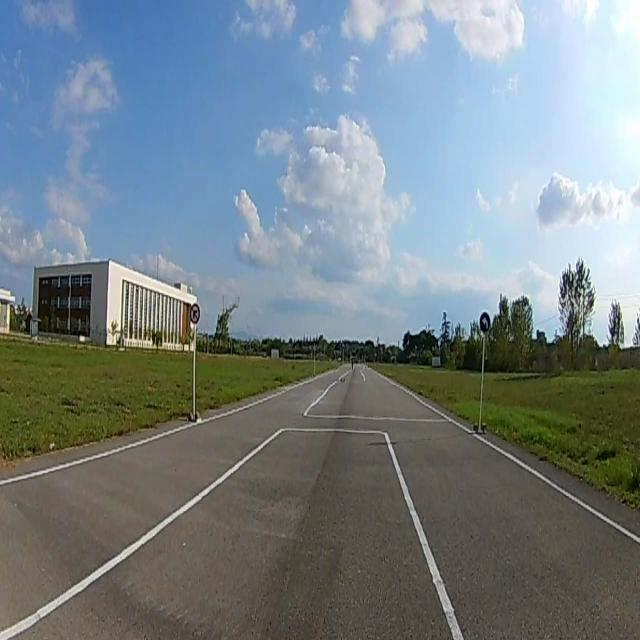sagadonulmez: (190, 304, 200, 324)
sol: (480, 313, 490, 332)
